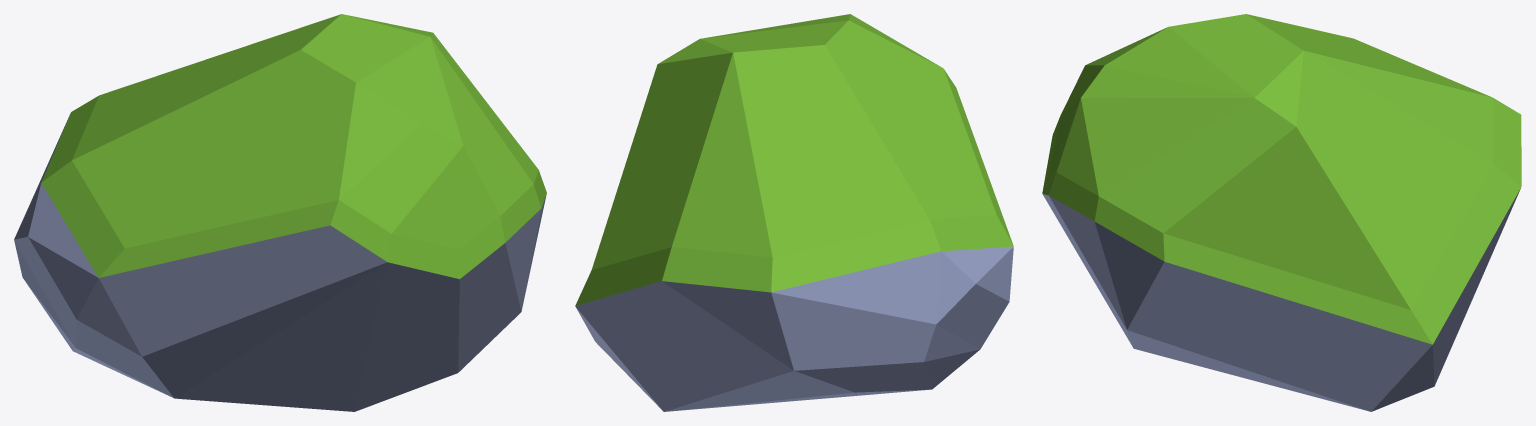
Rendered from Stone_3_1.fbx.
The picture shows the model from 3 angles, left to right: view 1: azimuth 30°, elevation 25°; view 2: azimuth 150°, elevation 25°; view 3: azimuth 270°, elevation 25°; orthographic projection. The views are drawn at different scales.
Parts seen in each view (by area): view 1: Stone_3_1; view 2: Stone_3_1; view 3: Stone_3_1.
Boxes of the visible parts, x1=… form: Stone_3_1: x1=14, y1=14, x2=546, y2=411; Stone_3_1: x1=575, y1=14, x2=1013, y2=411; Stone_3_1: x1=1042, y1=14, x2=1521, y2=411.
Size of the model in its own units: 0.9263 by 0.7385 by 0.9556.
